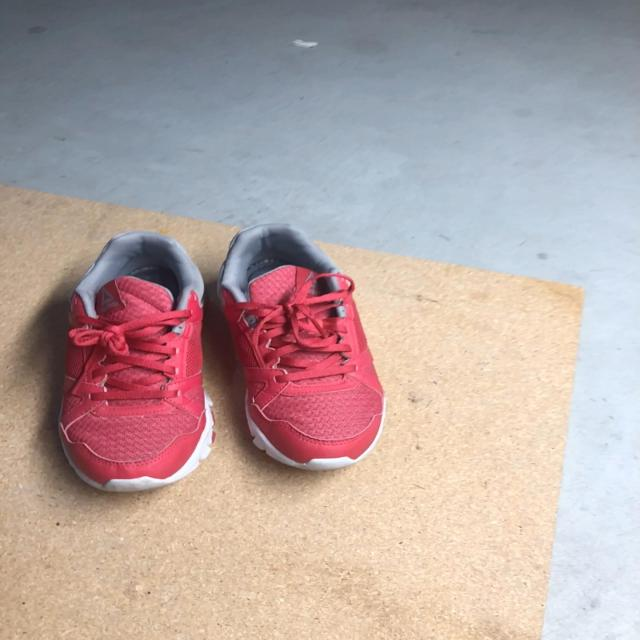shoe: (217, 228, 386, 473), (58, 234, 213, 496)
